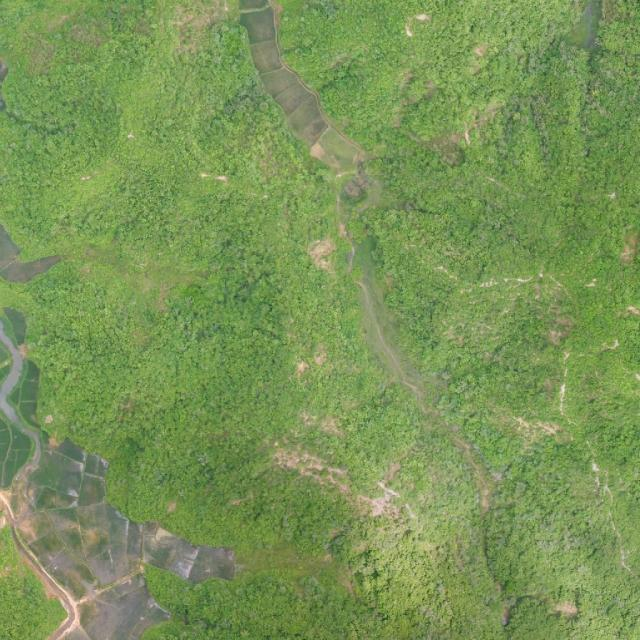agricultural_land: (219, 0, 367, 185), (0, 254, 64, 285), (256, 367, 260, 371)
greenland: (0, 526, 66, 639)
